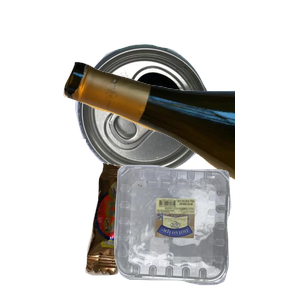glass: (60, 59, 300, 231)
metal: (73, 42, 277, 212)
plastic: (112, 162, 300, 300)
trash: (83, 160, 233, 300)
